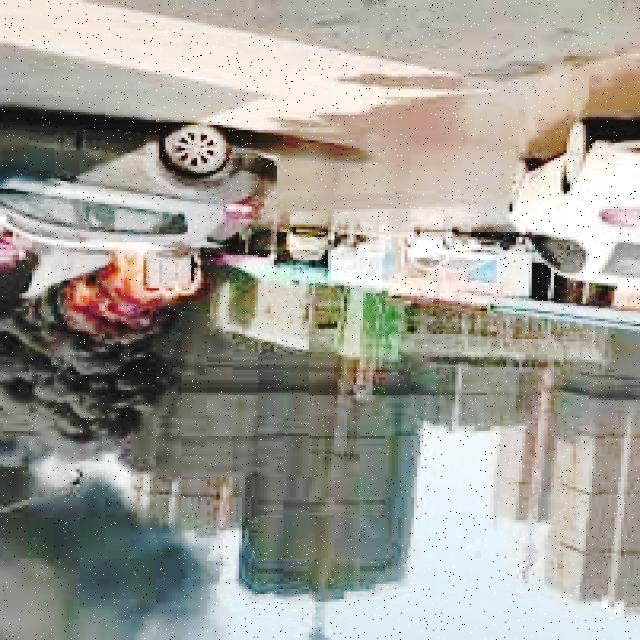api: (46, 220, 212, 330)
